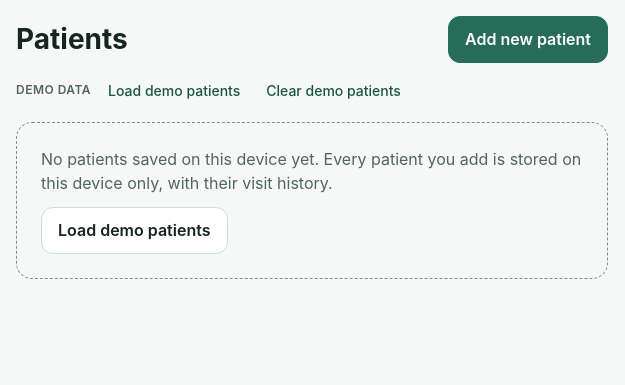
Test case: clearing demo patients › cancels without clearing and restores the original button
The image size is (625, 385).
Click the button "Clear demo patients" at (334, 90), box [257,75,410,106]
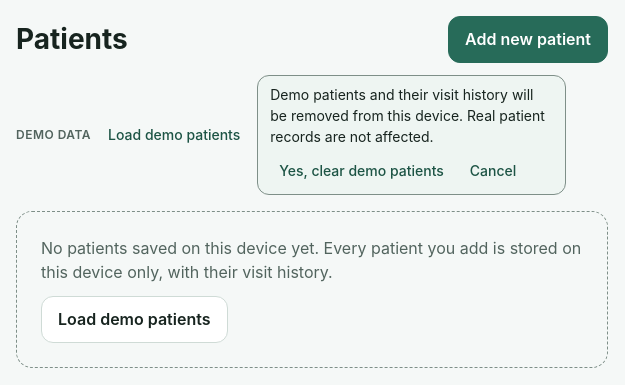
Click the button "Cancel" at (493, 170), box [461,155,525,186]
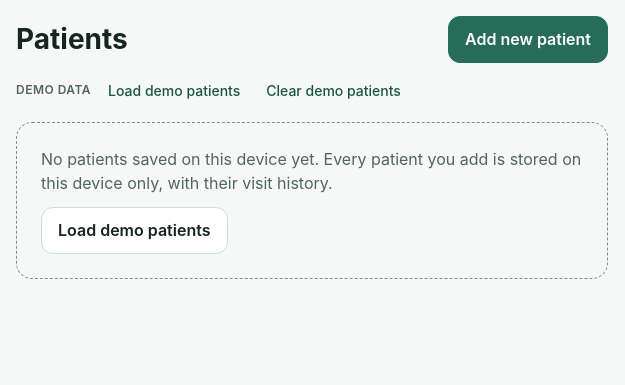
Expected: the button "Clear demo patients" is shown, [257,75,410,106]
Result: the message with class "confirm-action" is gone
